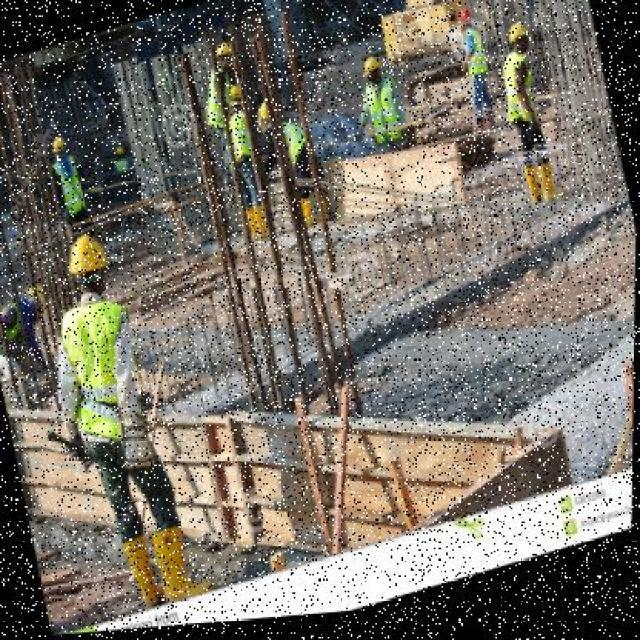helmet: (60, 226, 114, 285), (502, 23, 532, 57), (358, 54, 384, 85), (46, 128, 70, 156), (214, 38, 234, 66)
vest: (51, 285, 155, 455), (497, 49, 543, 139), (359, 79, 411, 156), (49, 151, 95, 220), (460, 28, 494, 92)
